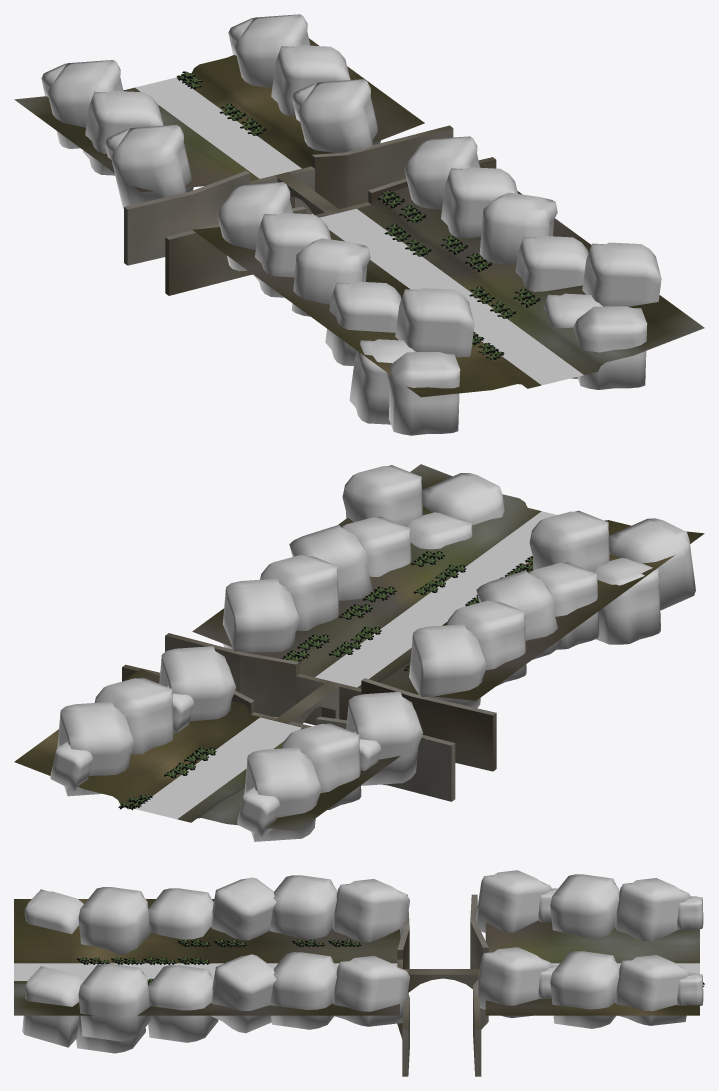
File: TILE_1.fbx
3 views of the same model, one above another, from view 1: azimuth 30°, elevation 25°; view 2: azimuth 150°, elevation 25°; view 3: azimuth 270°, elevation 25° (orthographic). The views are drawn at different scales.
Visible parts, largest first — view 1: CLIFFS.001, GROUND.001, BRIDGE, Plant.001; view 2: CLIFFS.001, GROUND.001, BRIDGE, Plant.001; view 3: CLIFFS.001, GROUND.001, BRIDGE, Plant.001.
Part boxes in pixels (x1,y1,x2,y2): CLIFFS.001: (41,14,661,435); GROUND.001: (14,38,704,397); BRIDGE: (124,125,496,295); Plant.001: (177,71,540,360); CLIFFS.001: (50,465,695,841); GROUND.001: (14,464,704,831); BRIDGE: (122,633,496,801); Plant.001: (118,551,533,810); CLIFFS.001: (22,870,703,1053); GROUND.001: (14,899,699,1015); BRIDGE: (397,894,488,1076); Plant.001: (76,939,704,986).
Size of the model in its own units: 4649 by 1463 by 10073.
